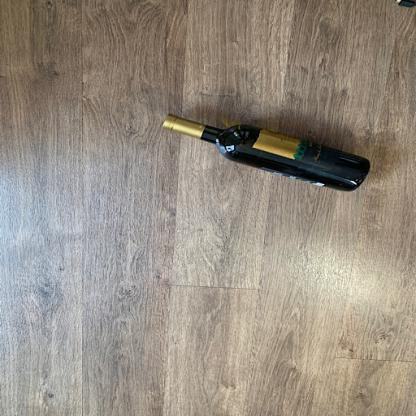trash: (158, 112, 374, 193)
